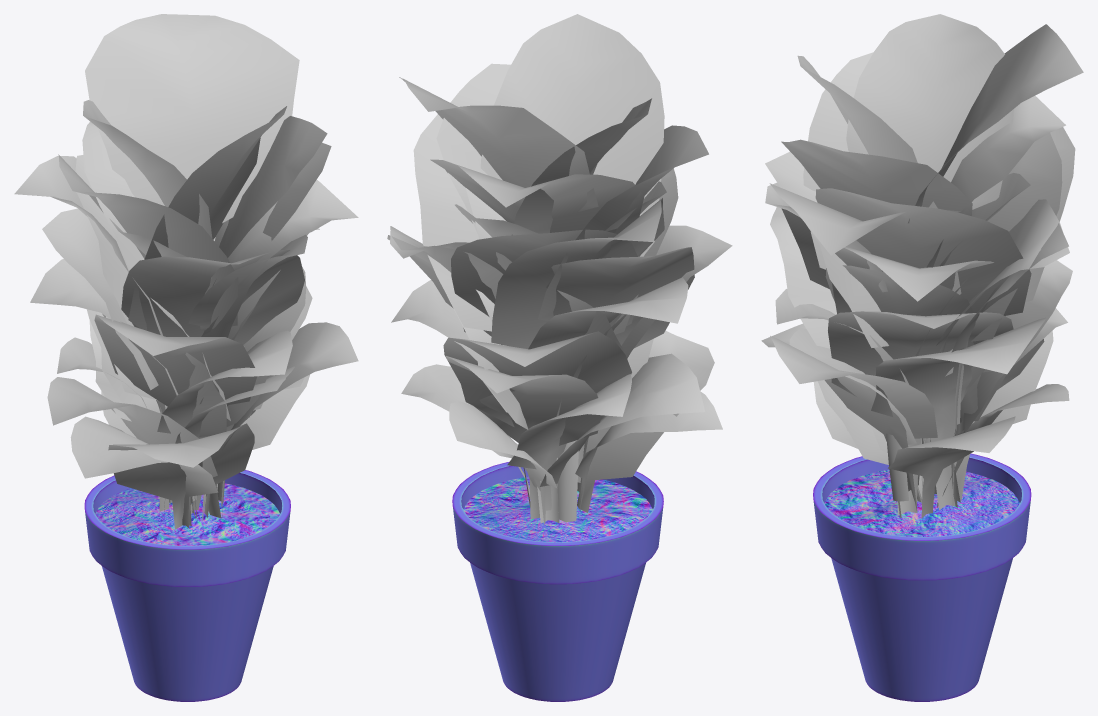
Rendered from PotPlant_02.fbx.
3 renders of one model, left to right at view 1: azimuth 30°, elevation 25°; view 2: azimuth 150°, elevation 25°; view 3: azimuth 270°, elevation 25°, orthographic. The views are drawn at different scales.
Parts seen in each view (by area): view 1: PotPlant_02; view 2: PotPlant_02; view 3: PotPlant_02.
Part boxes in pixels (bbox=[...]): PotPlant_02: bbox=[14, 14, 358, 701]; PotPlant_02: bbox=[387, 14, 732, 701]; PotPlant_02: bbox=[761, 14, 1083, 701].
Size of the model in its own units: 69.93 by 148 by 67.21.
